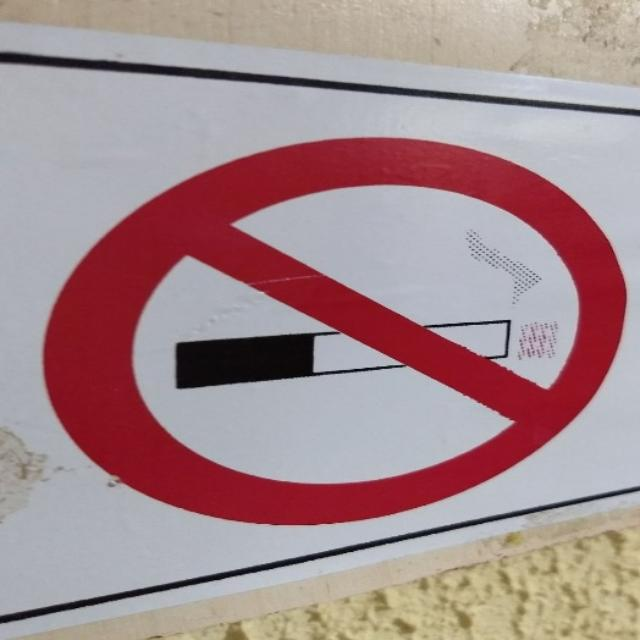cam hut thuoc: (45, 138, 625, 524)
